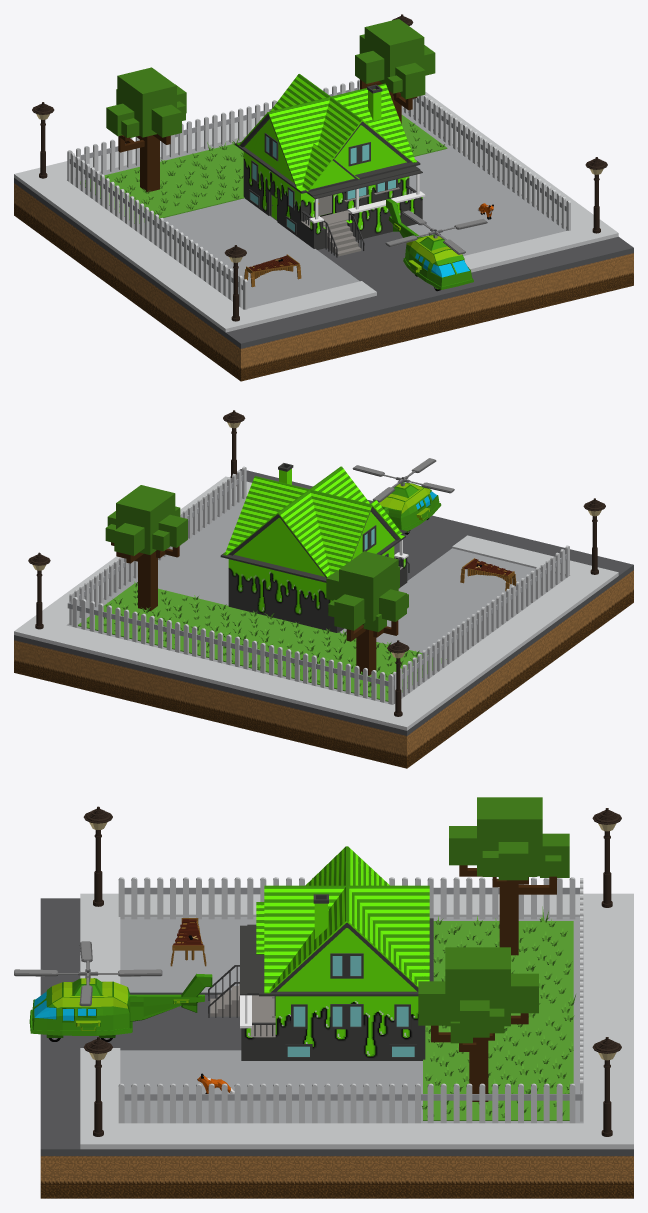
The picture shows the model from 3 angles, top to bottom: view 1: azimuth 30°, elevation 25°; view 2: azimuth 150°, elevation 25°; view 3: azimuth 270°, elevation 25°; orthographic projection. The views are drawn at different scales.
Visible parts, largest first — view 1: Cube.004, Cube.754, VEHICLES_HELICOPTER, OBJRANDOM_MARIMBA; view 2: Cube.004, Cube.754, VEHICLES_HELICOPTER, OBJRANDOM_MARIMBA; view 3: Cube.004, Cube.754, VEHICLES_HELICOPTER, OBJRANDOM_MARIMBA.
Part boxes in pixels (left/top/right/bottom): Cube.004: left=14, top=14, right=633, bottom=381; Cube.754: left=235, top=74, right=425, bottom=257; VEHICLES_HELICOPTER: left=385, top=198, right=487, bottom=291; OBJRANDOM_MARIMBA: left=244, top=254, right=301, bottom=287; Cube.004: left=14, top=410, right=633, bottom=768; Cube.754: left=220, top=463, right=409, bottom=632; VEHICLES_HELICOPTER: left=352, top=458, right=454, bottom=534; OBJRANDOM_MARIMBA: left=460, top=558, right=516, bottom=591; Cube.004: left=40, top=797, right=633, bottom=1198; Cube.754: left=208, top=846, right=433, bottom=1060; VEHICLES_HELICOPTER: left=14, top=941, right=212, bottom=1041; OBJRANDOM_MARIMBA: left=170, top=918, right=206, bottom=966.
Bounding box in the file's own units: 4000 × 1700 × 4179.
34 materials, 4 textured.
